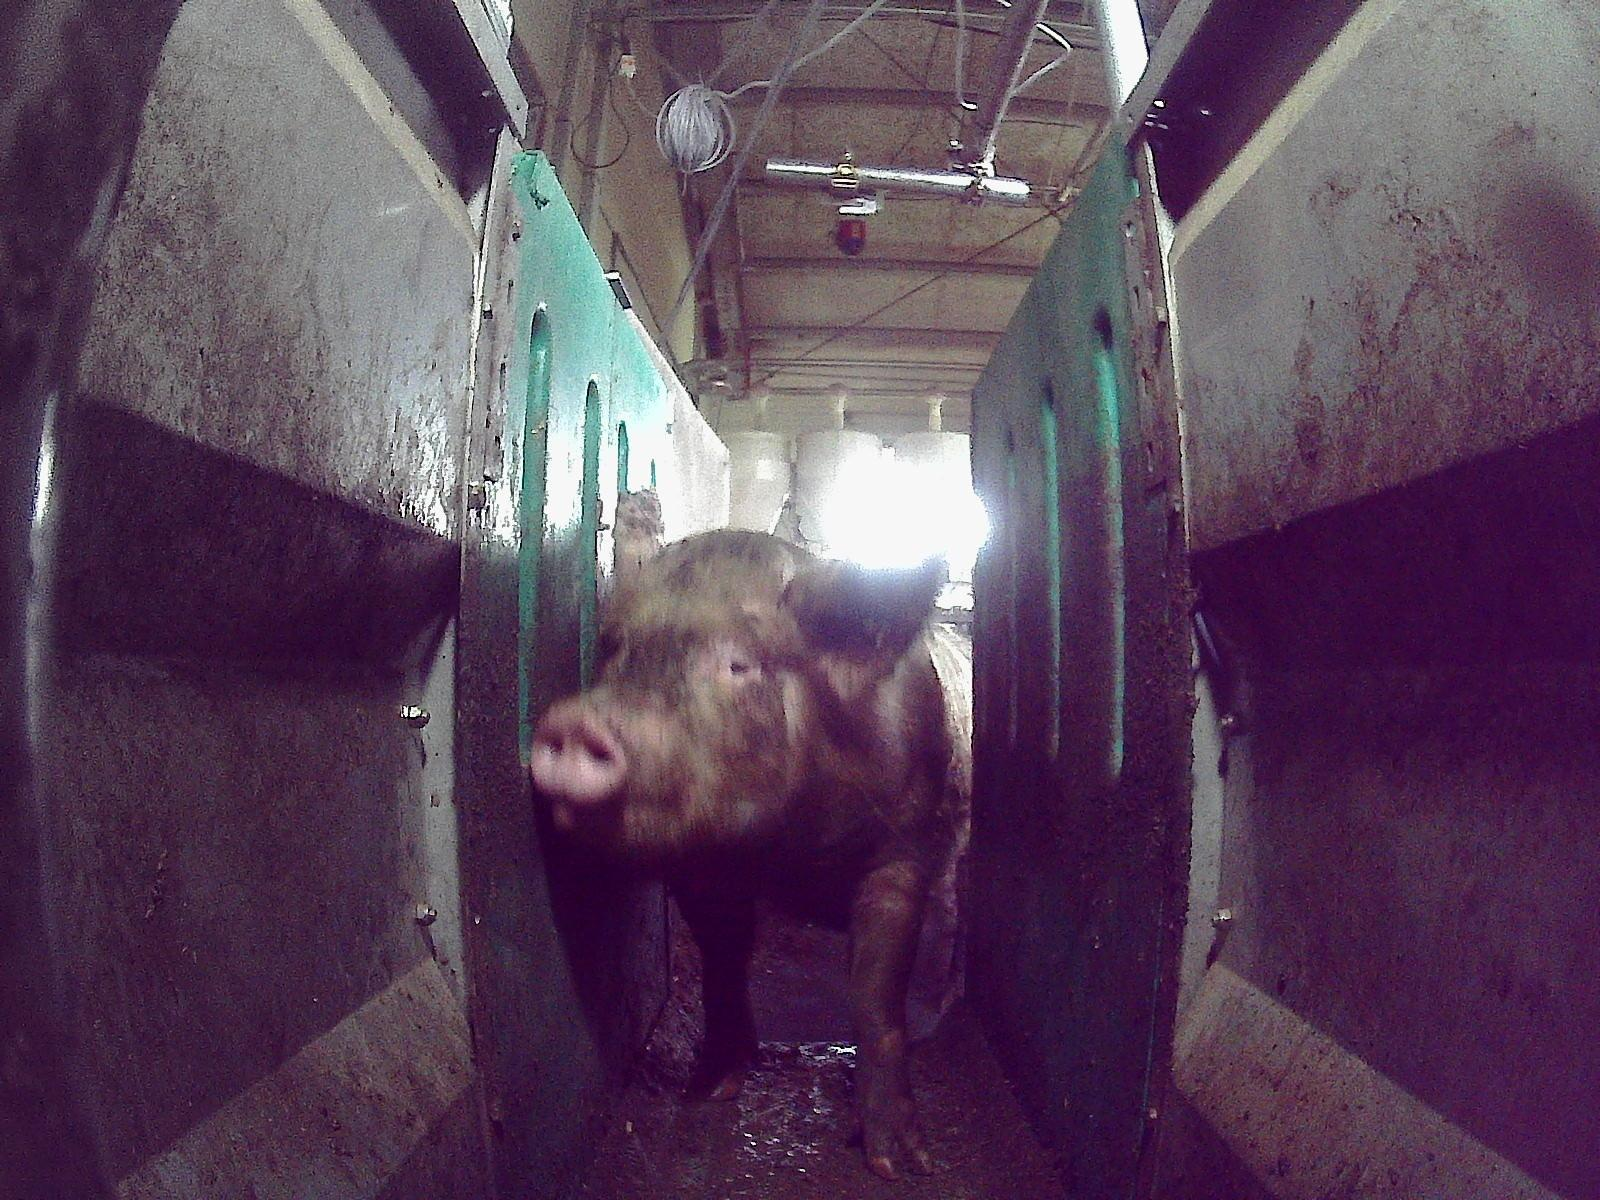Face: (525, 529, 821, 859)
